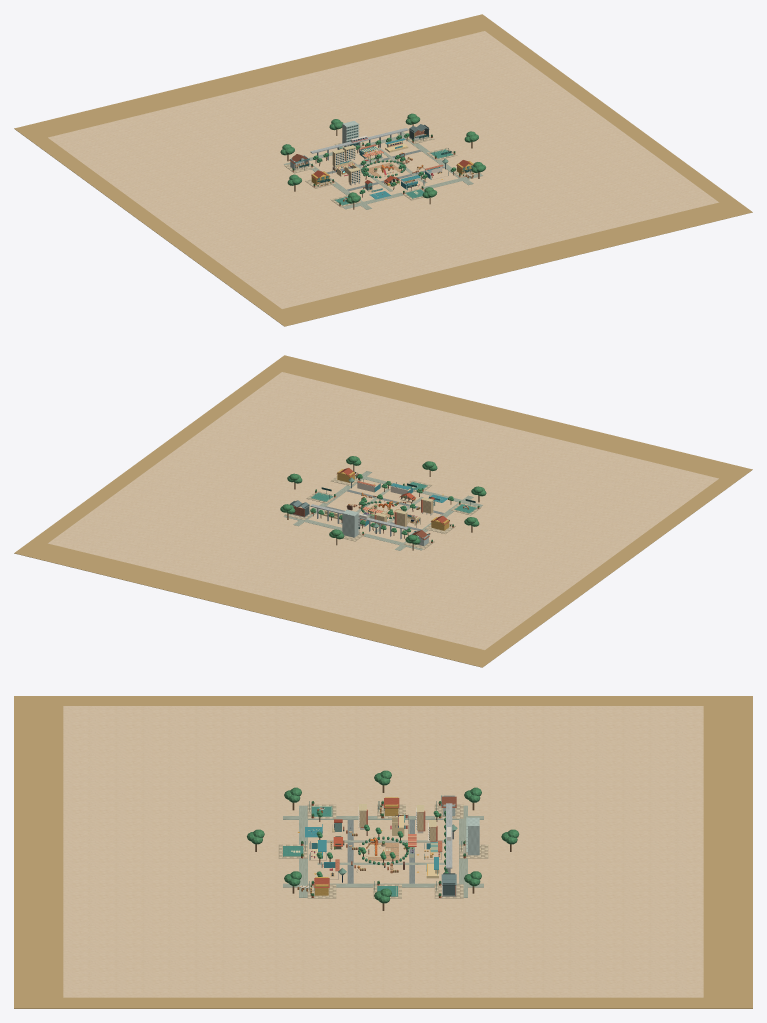
The model's file is estate.glb.
The picture shows the model from 3 angles, top to bottom: view 1: azimuth 30°, elevation 25°; view 2: azimuth 150°, elevation 25°; view 3: azimuth 270°, elevation 25°; orthographic projection. The views are drawn at different scales.
Visible parts, largest first — view 1: landscape_culture_#c6a875:0:False, landscape_culture_#c6a875:None:False, original_world_#acb5a2, original_world_#4d885c, original_world_tile #d2c0a0; view 2: landscape_culture_#c6a875:0:False, landscape_culture_#c6a875:None:False, original_world_#acb5a2, original_world_#4d885c, original_world_tile #d2c0a0, original_world_#48895b; view 3: landscape_culture_#c6a875:0:False, landscape_culture_#c6a875:None:False, original_world_#acb5a2, original_world_tile #d2c0a0, original_world_#4d885c, original_world_#8d9690, original_world_#48895b, original_world_#539787.
Part boxes in pixels (x1,y1,x2,y2): landscape_culture_#c6a875:0:False: (48,31,718,308); landscape_culture_#c6a875:None:False: (14,14,752,326); original_world_#acb5a2: (284,132,482,209); original_world_#4d885c: (280,113,485,203); original_world_tile #d2c0a0: (284,135,481,207); landscape_culture_#c6a875:0:False: (48,372,718,649); landscape_culture_#c6a875:None:False: (14,355,752,667); original_world_#acb5a2: (284,471,482,550); original_world_#4d885c: (280,456,486,544); original_world_tile #d2c0a0: (284,476,481,549); original_world_#48895b: (310,474,453,534); landscape_culture_#c6a875:0:False: (63,706,703,997); landscape_culture_#c6a875:None:False: (14,696,752,1008); original_world_#acb5a2: (283,805,483,897); original_world_tile #d2c0a0: (278,804,488,898); original_world_#4d885c: (247,770,519,903); original_world_#8d9690: (347,819,414,883); original_world_#48895b: (316,810,448,876); original_world_#539787: (283,806,397,896).
Bounding box in the file's own units: 180 × 8.85 × 180.
Materials: 173 (160 with a texture image).
